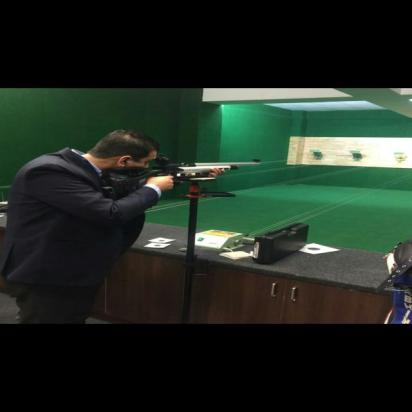Gun: (99, 153, 262, 202)
